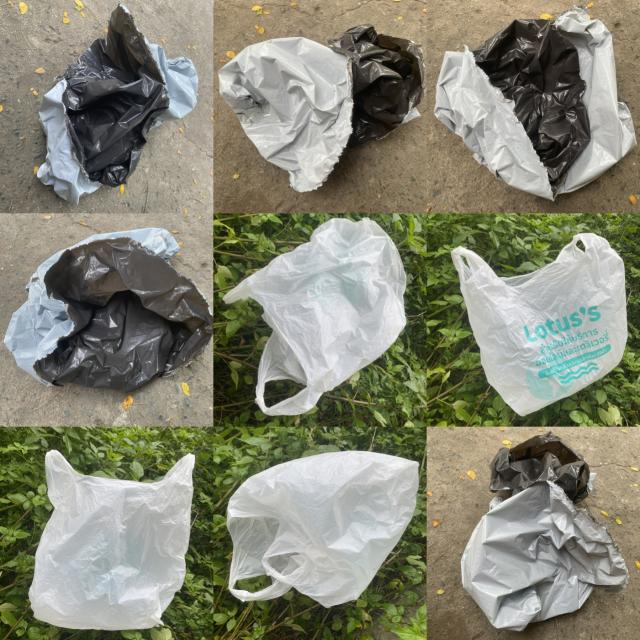Single-layer Plastic: (435, 6, 636, 199), (224, 218, 406, 416), (219, 24, 425, 191), (461, 431, 629, 631), (4, 228, 212, 389), (451, 234, 628, 415), (38, 5, 198, 204), (228, 451, 419, 608), (29, 450, 195, 629)
